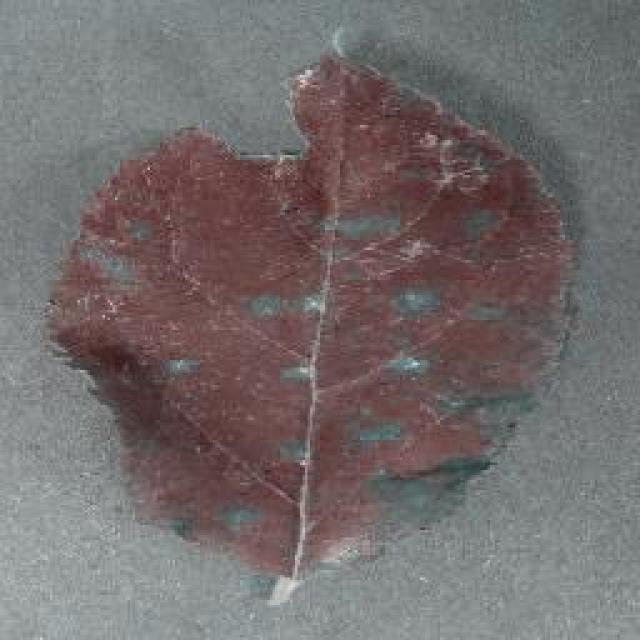apple scab disease: (43, 42, 575, 588)
